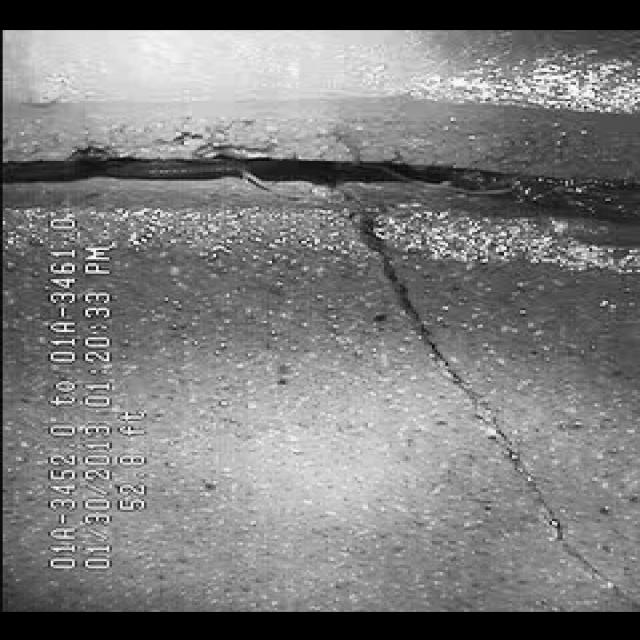Crack: (326, 230, 588, 556)
